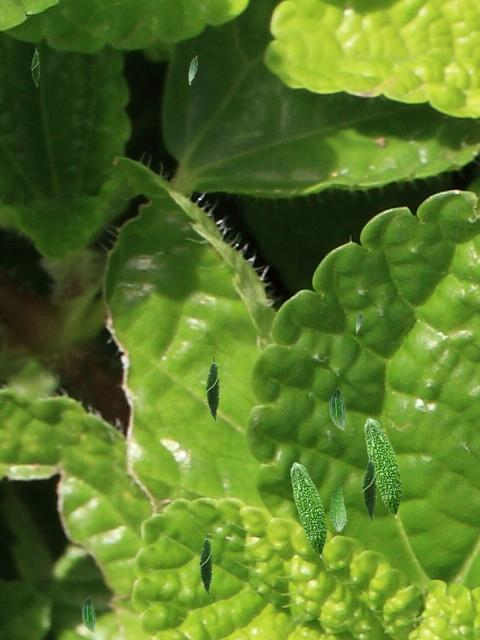ampalaya: (364, 417, 404, 519), (290, 462, 328, 559), (360, 452, 379, 522), (204, 355, 222, 421), (198, 531, 214, 595), (328, 481, 347, 533), (328, 386, 346, 430), (81, 596, 96, 633), (30, 47, 41, 88), (188, 55, 198, 85), (355, 312, 362, 333)
